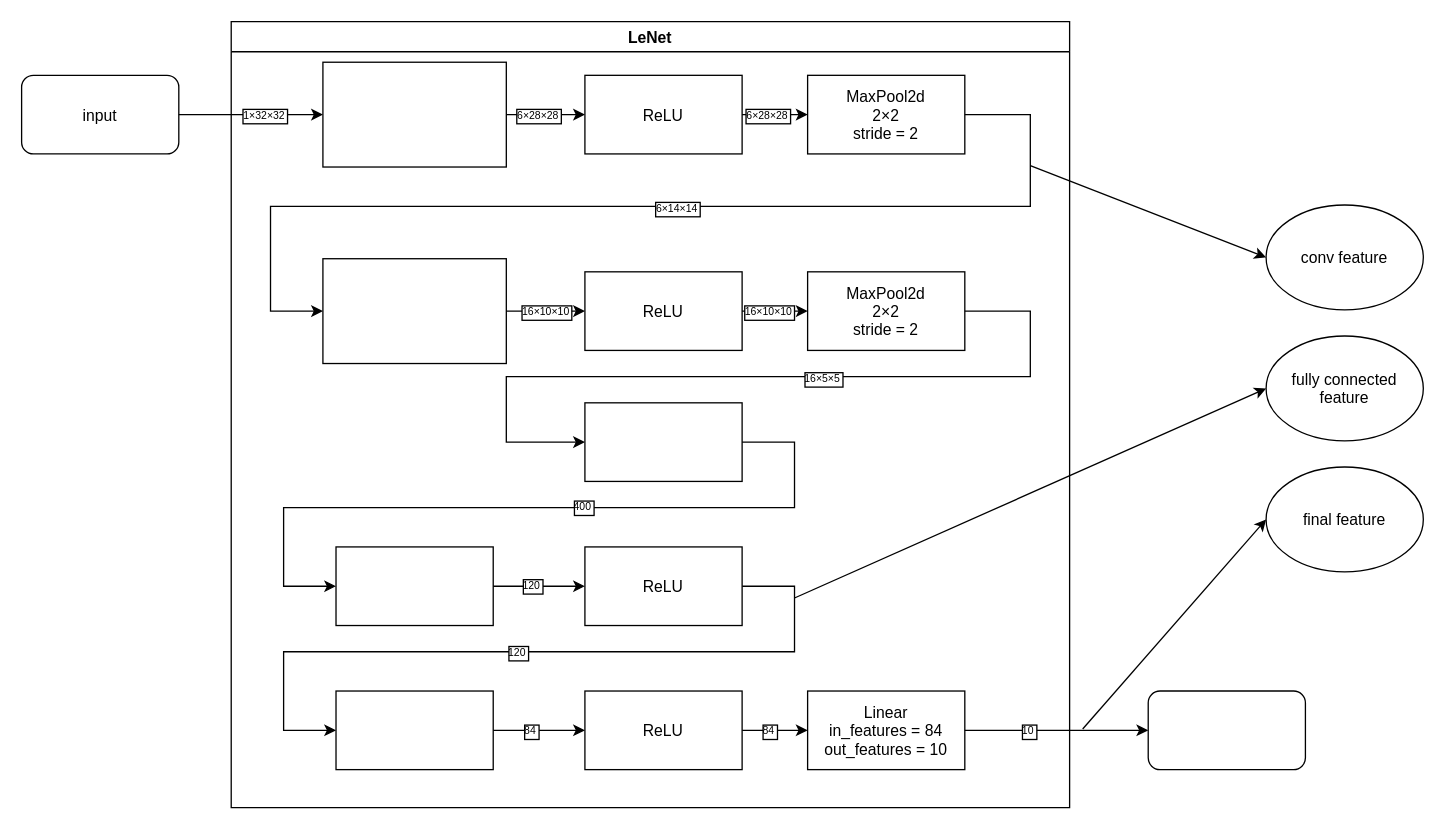
Image size: 1445x829. Some labels were removed from this diagram. Each missing label, with the centre of its shape:
Conv2d 5×5 in_channels = 1 out_channels = 6: point 414,114
Conv2d 5×5 in_channels = 6 out_channels = 16: point 414,310
flatten: point 663,441
Linear in_features = 120 out_features = 84: point 414,730
Linear in_features = 400 out_features = 120: point 414,586
output: point 1226,730
